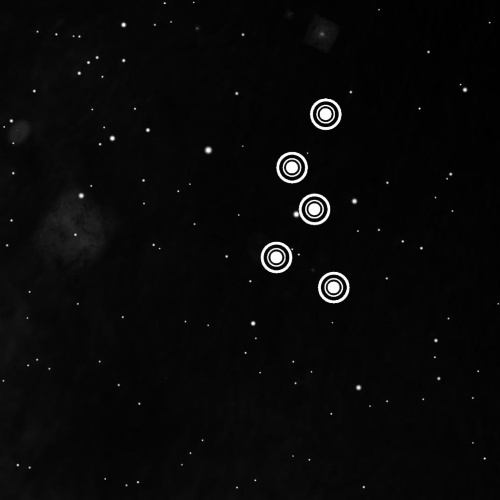cassiopeia: (247, 82, 370, 313)
